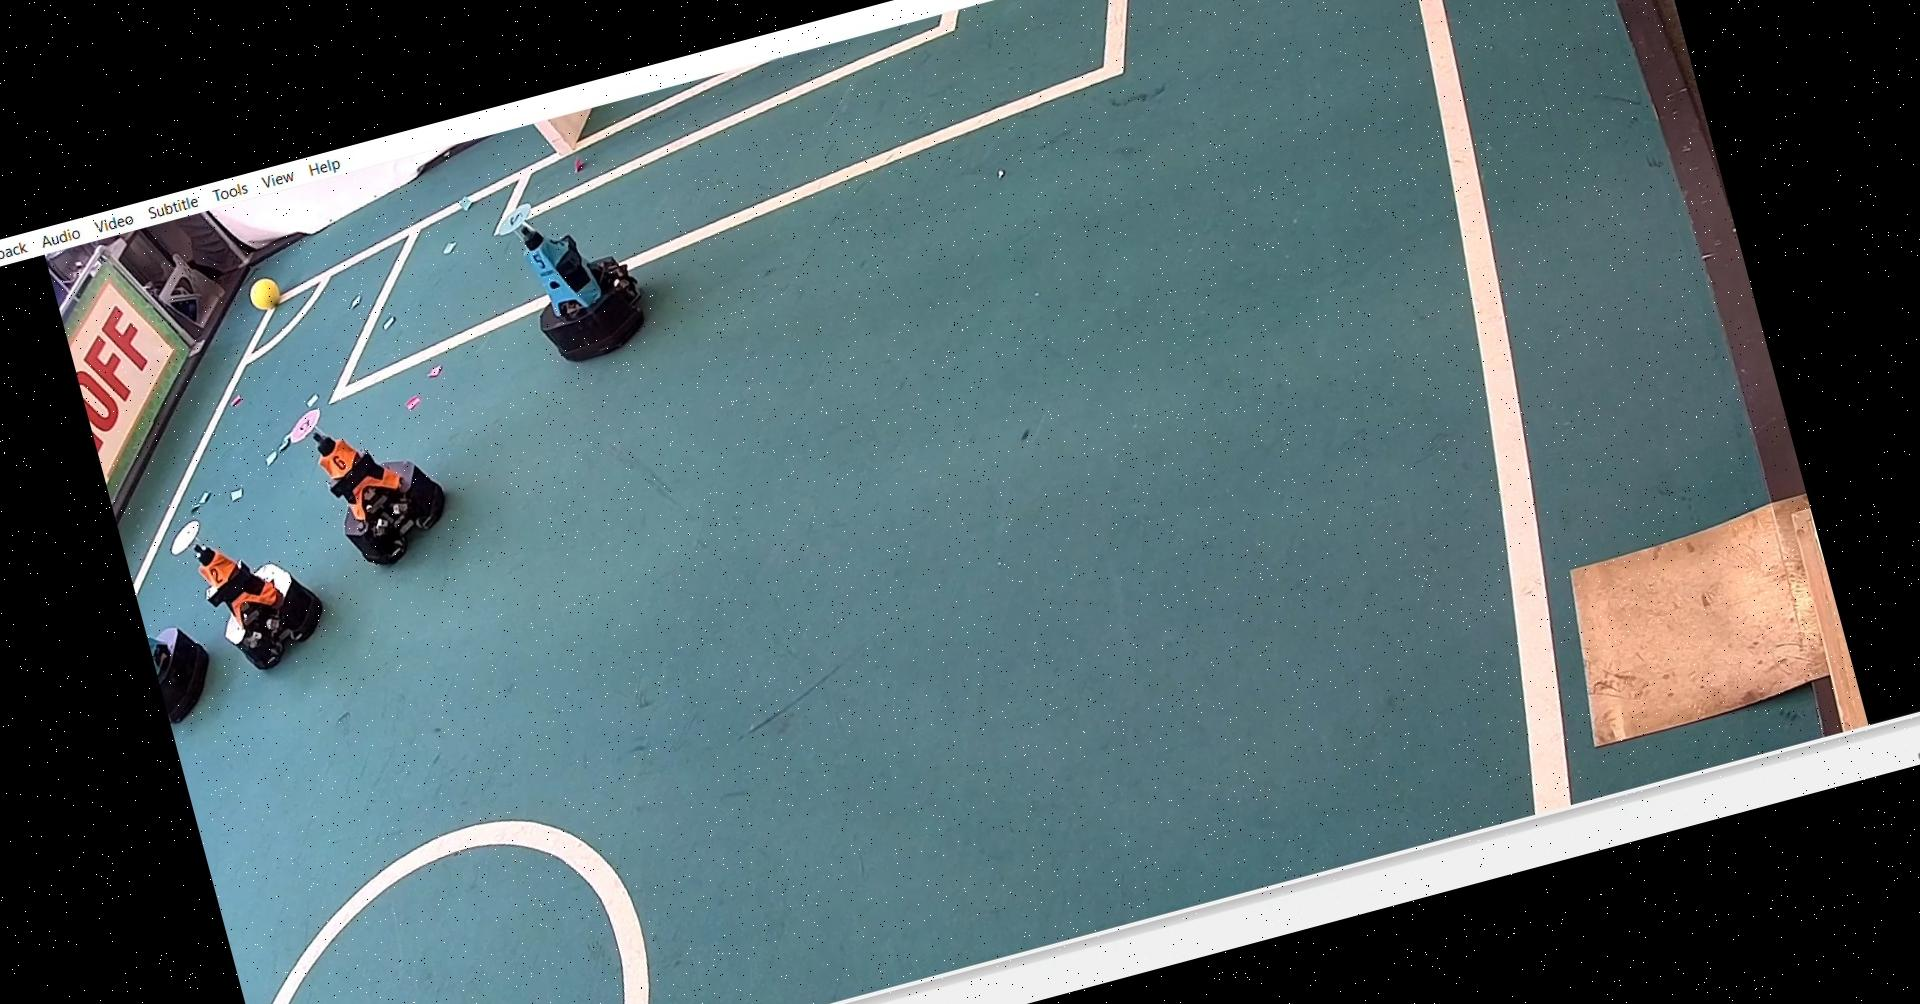Ball: (253, 270, 295, 311)
Team_Blue: (489, 166, 669, 378)
Team_Red: (276, 371, 462, 581), (160, 487, 339, 688)
